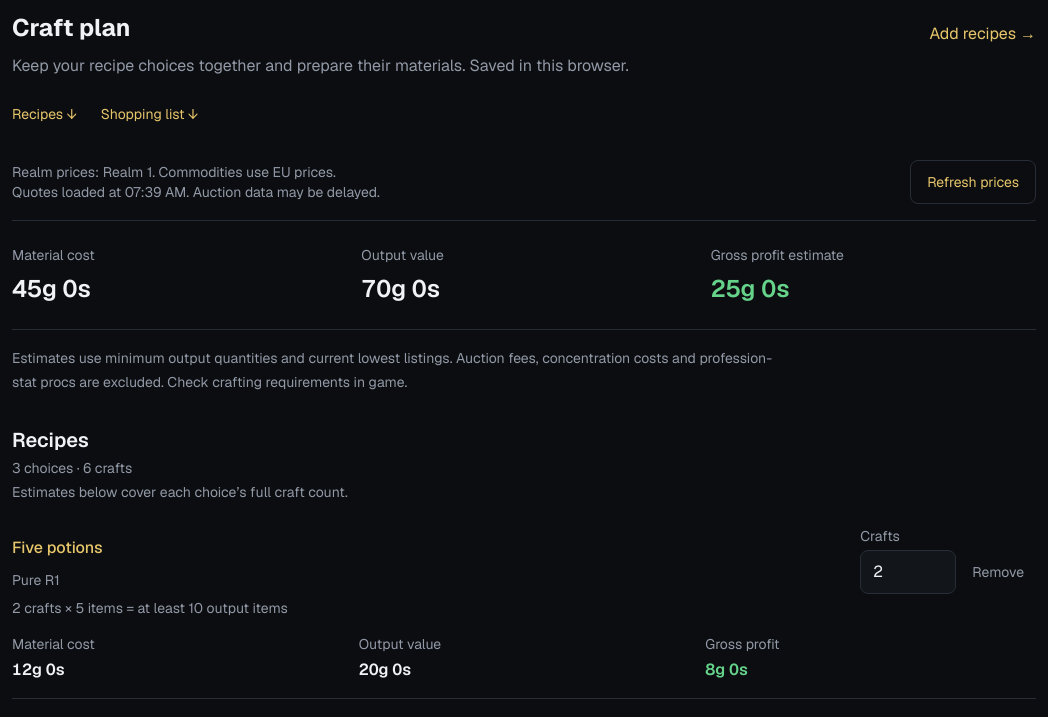
Test case: each saved choice shows quantity-scaled cost, output and gross profit together
Expected: the text "45g 0s" is shown, [12,273,91,304]
Expected: the text "12g 0s" is shown, [12,659,64,680]
Replace the text in the number field named "Crafts for Five potions (Pure R1)" with "4" at [908, 572], box [860,550,956,594]
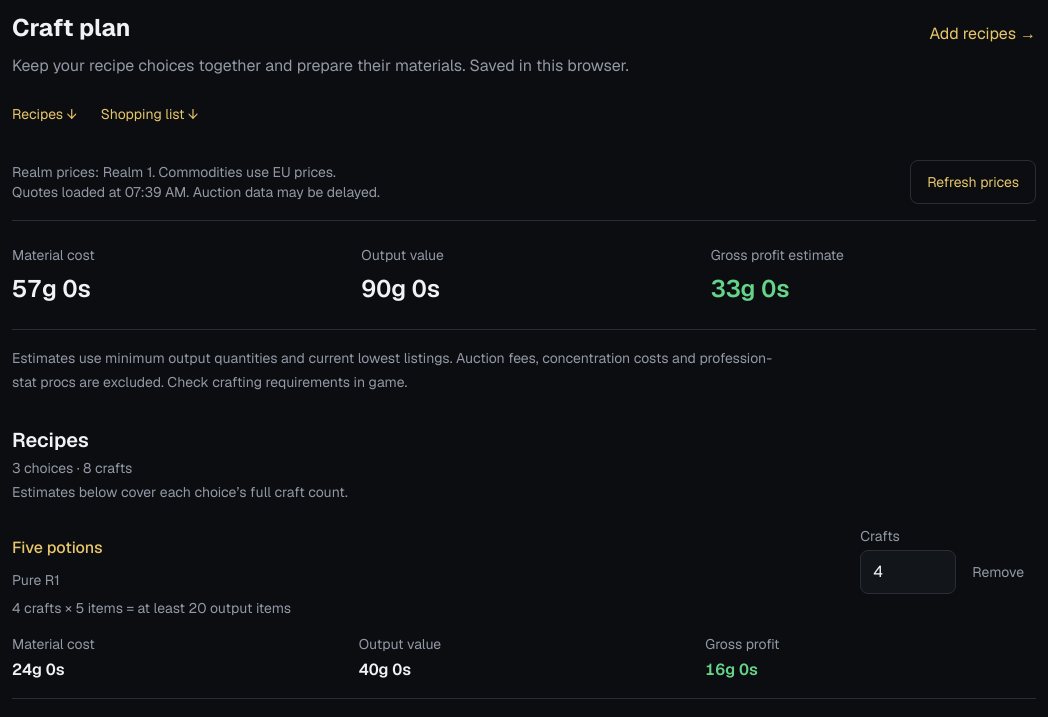
Now the text "24g 0s" is shown, box [12,659,64,680]
Now the text "40g 0s" is shown, box [359,659,411,680]
Now the text "16g 0s" is shown, box [705,659,758,680]
